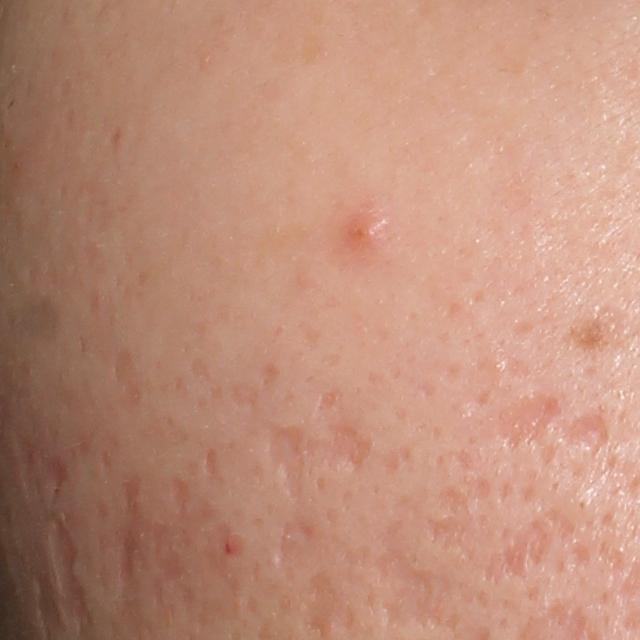atrophic_scar: (424, 482, 577, 584), (259, 388, 381, 500), (373, 521, 455, 636), (147, 470, 223, 586), (51, 516, 90, 630), (498, 394, 567, 447), (269, 514, 324, 573), (557, 411, 608, 458), (110, 348, 141, 416), (47, 456, 68, 500), (201, 446, 223, 485)
papule: (342, 207, 392, 249)
